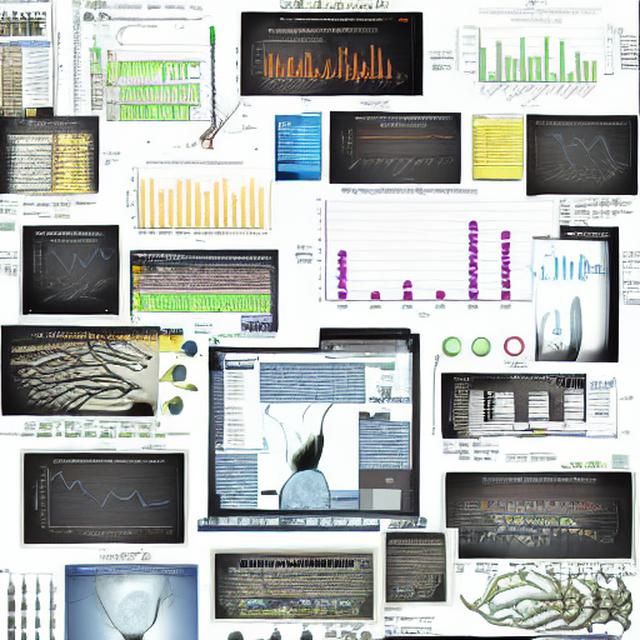Graph: (285, 184, 523, 324), (451, 6, 600, 111), (123, 159, 270, 247), (31, 456, 177, 542), (340, 113, 461, 184), (248, 35, 332, 96), (31, 238, 119, 292), (523, 253, 576, 284)
